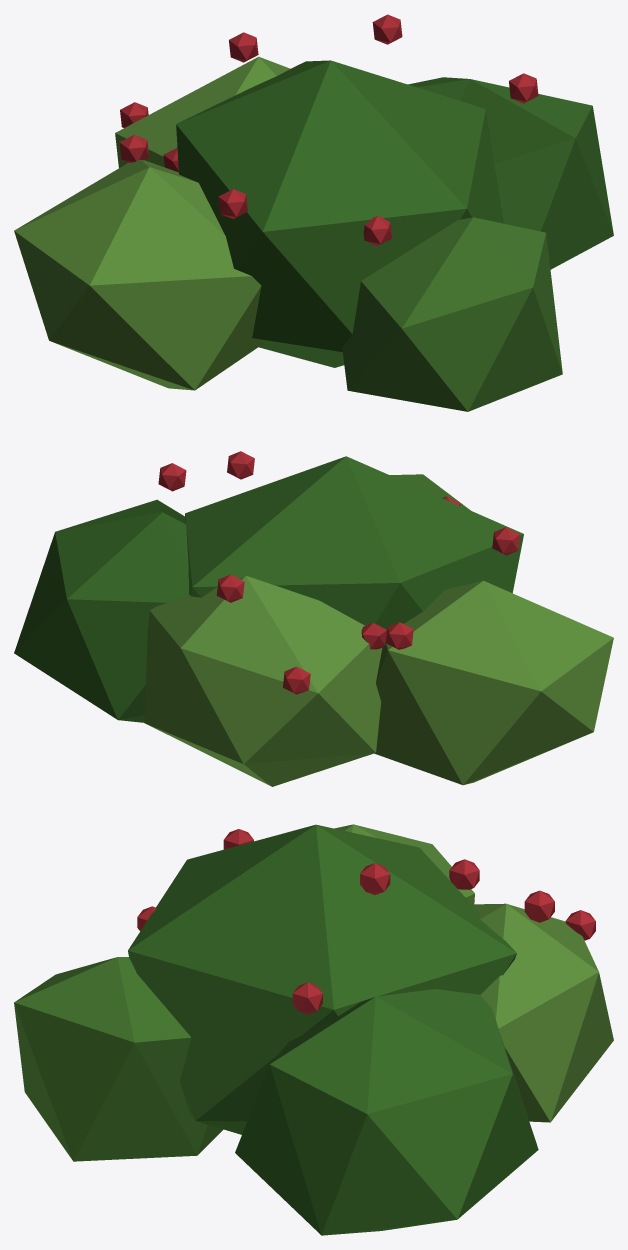
The model's file is bush_2.glb.
3 renders of one model, top to bottom at view 1: azimuth 30°, elevation 25°; view 2: azimuth 150°, elevation 25°; view 3: azimuth 270°, elevation 25°, orthographic. The views are drawn at different scales.
Parts seen in each view (by area): view 1: Bush2; view 2: Bush2; view 3: Bush2.
Boxes of the visible parts, x1,y1,x2,y2 form: Bush2: (14,14,613,422); Bush2: (14,451,613,786); Bush2: (14,824,613,1235).
Bounding box in the file's own units: 0.965 × 0.6056 × 0.8416.
